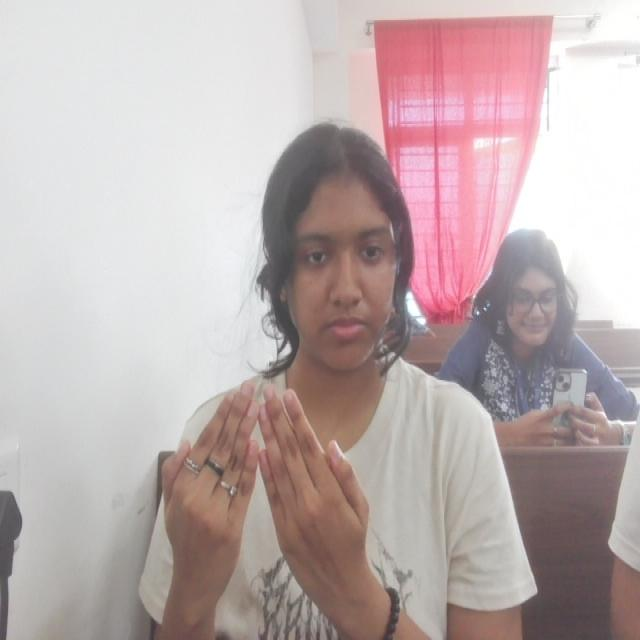thankyou: (155, 378, 377, 611)
